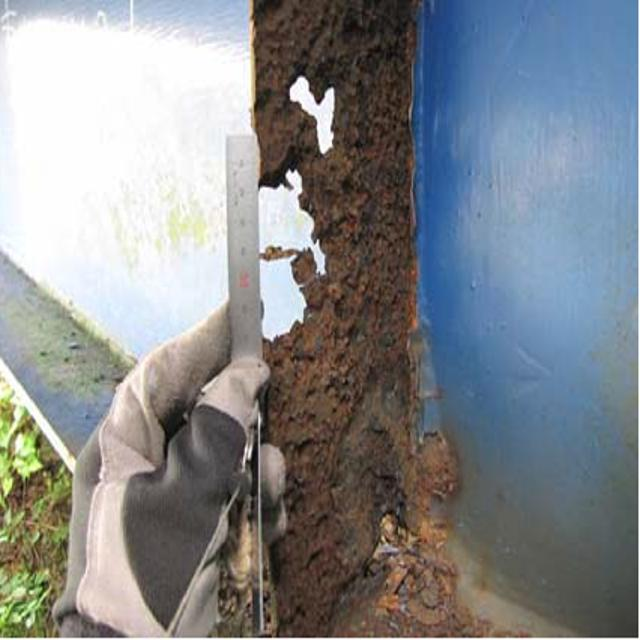corrosion: (218, 0, 478, 640)
